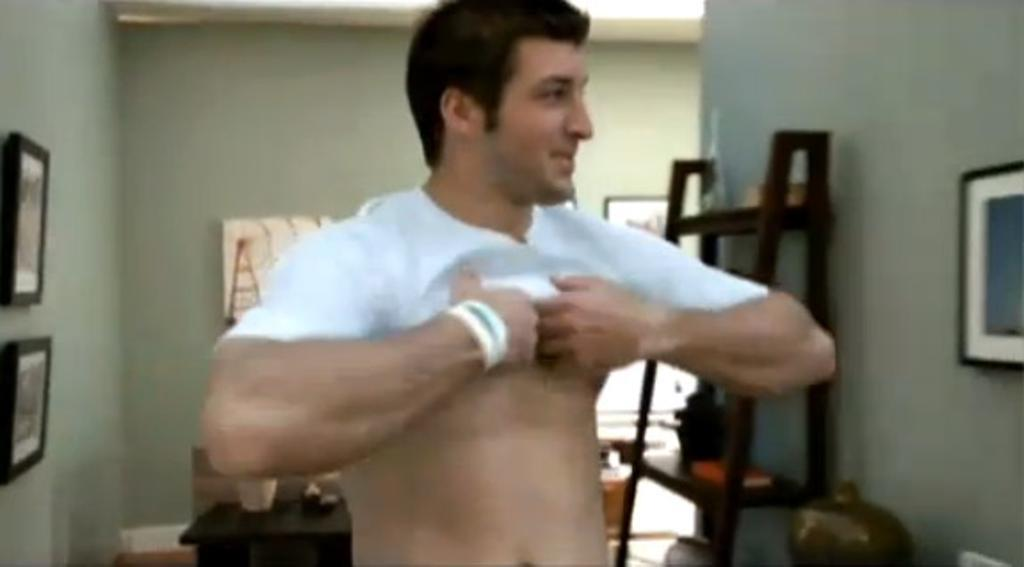face: (487, 37, 593, 201)
